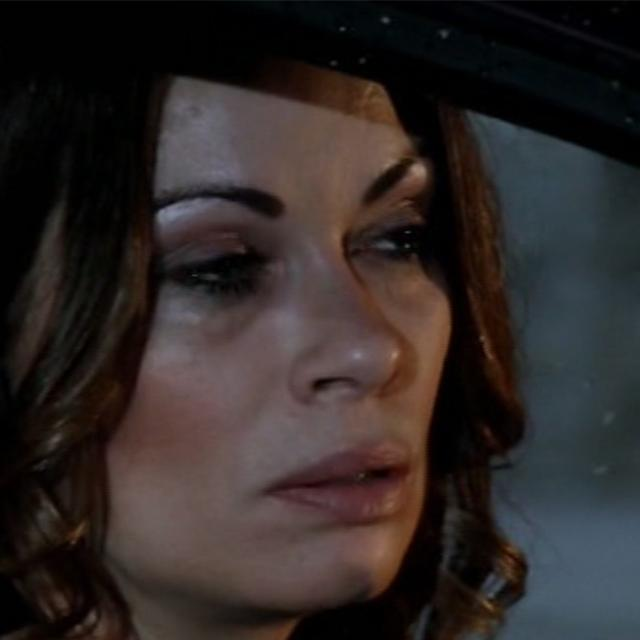Depress: (87, 56, 462, 609)
